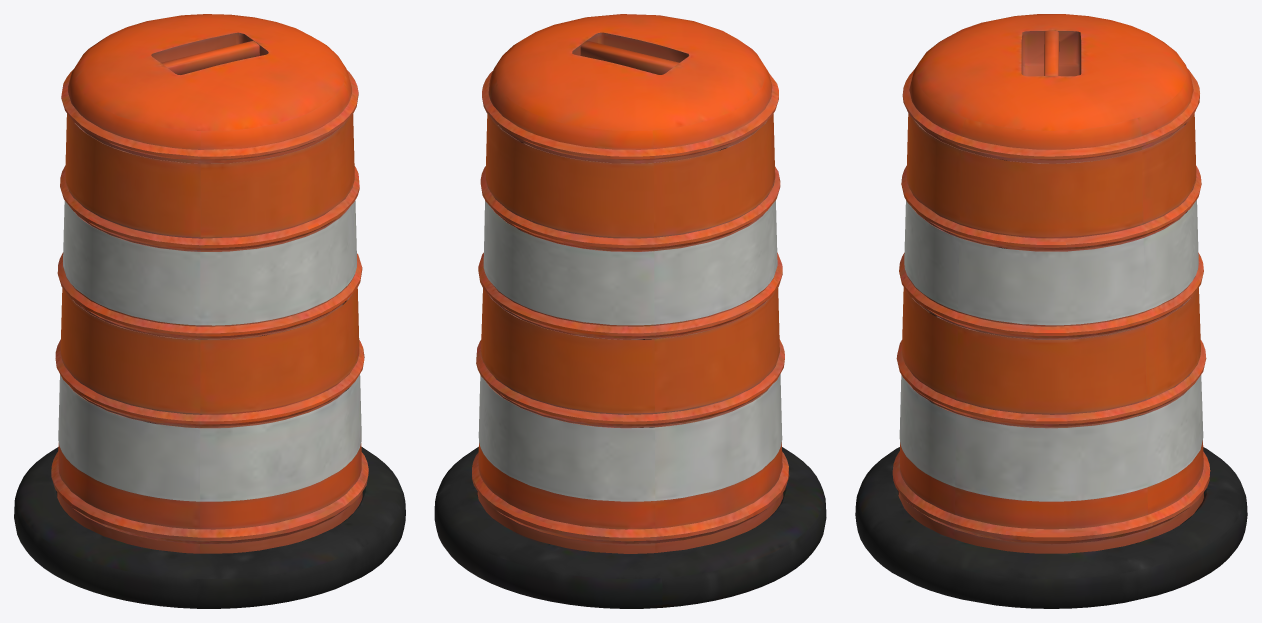
The model's file is traffic-barrel.glb.
3 renders of one model, left to right at view 1: azimuth 30°, elevation 25°; view 2: azimuth 150°, elevation 25°; view 3: azimuth 270°, elevation 25°, orthographic.
Parts seen in each view (by area): view 1: traffic-barrel_body; view 2: traffic-barrel_body; view 3: traffic-barrel_body.
Boxes of the visible parts, x1,y1,x2,y2 form: traffic-barrel_body: (14,14,405,608); traffic-barrel_body: (434,14,826,608); traffic-barrel_body: (855,14,1247,608).
Size of the model in its own units: 0.734 by 0.9851 by 0.734.
Materials: 1 (1 with a texture image).
